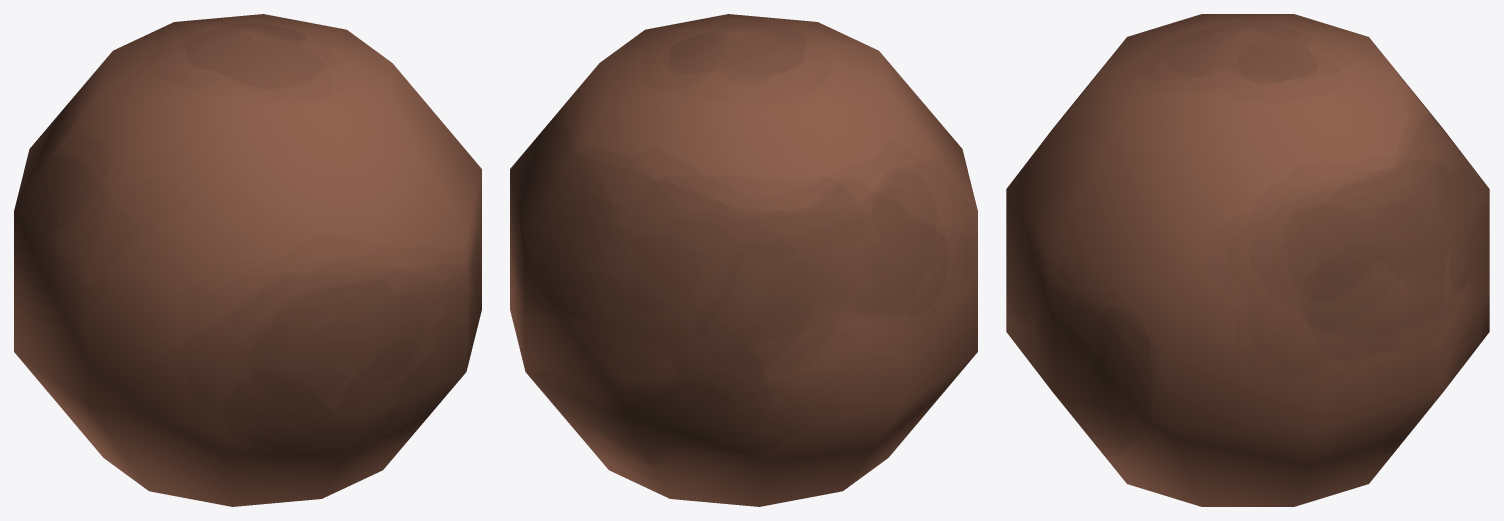
File: Pluto.FBX
The picture shows the model from 3 angles, left to right: view 1: azimuth 30°, elevation 25°; view 2: azimuth 150°, elevation 25°; view 3: azimuth 270°, elevation 25°; orthographic projection.
Parts seen in each view (by area): view 1: Planet003; view 2: Planet003; view 3: Planet003.
Part boxes in pixels (x1,y1,x2,y2): Planet003: (14,14,481,506); Planet003: (510,14,977,506); Planet003: (1006,14,1489,506).
Size of the model in its own units: 174 by 193 by 183.
